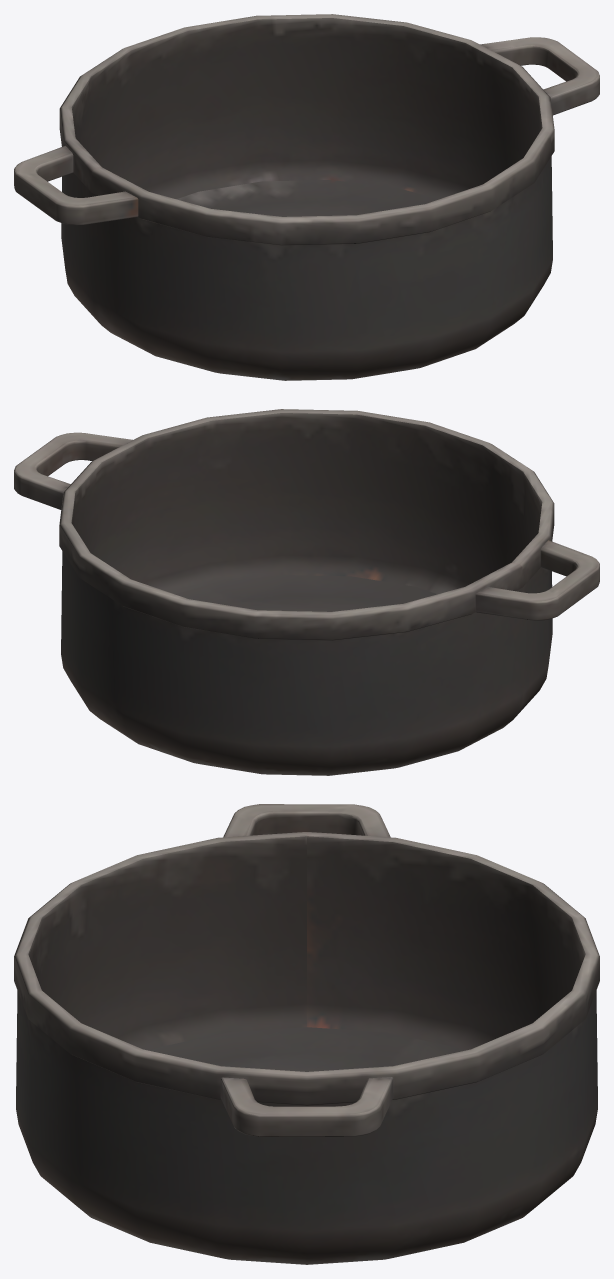
File: SM_SaucePan_Black_Pot_02.fbx
The picture shows the model from 3 angles, top to bottom: view 1: azimuth 30°, elevation 25°; view 2: azimuth 150°, elevation 25°; view 3: azimuth 270°, elevation 25°; orthographic projection. The views are drawn at different scales.
Parts seen in each view (by area): view 1: SM_SaucePan_Black_Pot_02_LOD0; view 2: SM_SaucePan_Black_Pot_02_LOD0; view 3: SM_SaucePan_Black_Pot_02_LOD0.
Part boxes in pixels (left/top/right/bottom): SM_SaucePan_Black_Pot_02_LOD0: left=14, top=14, right=599, bottom=380; SM_SaucePan_Black_Pot_02_LOD0: left=14, top=409, right=599, bottom=775; SM_SaucePan_Black_Pot_02_LOD0: left=14, top=804, right=599, bottom=1264.
Size of the model in its own units: 34.61 by 27.49 by 10.74.
1 material, 1 textured.
